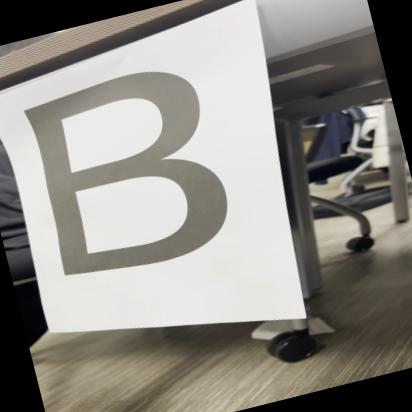seat: (0, 42, 265, 305)
